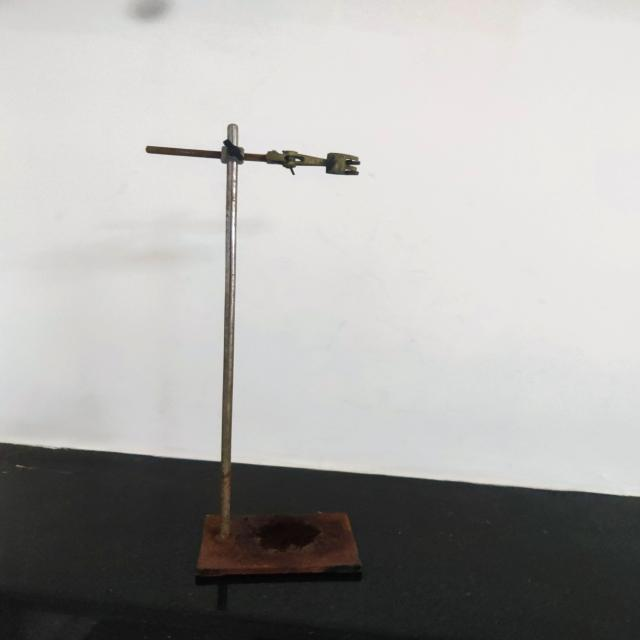Burette_Stands: (90, 88, 427, 619)
